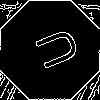U: (25, 25, 82, 76)
